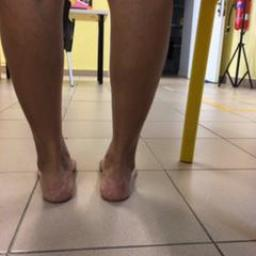Back View -Both Feet-: (6, 114, 172, 215)
